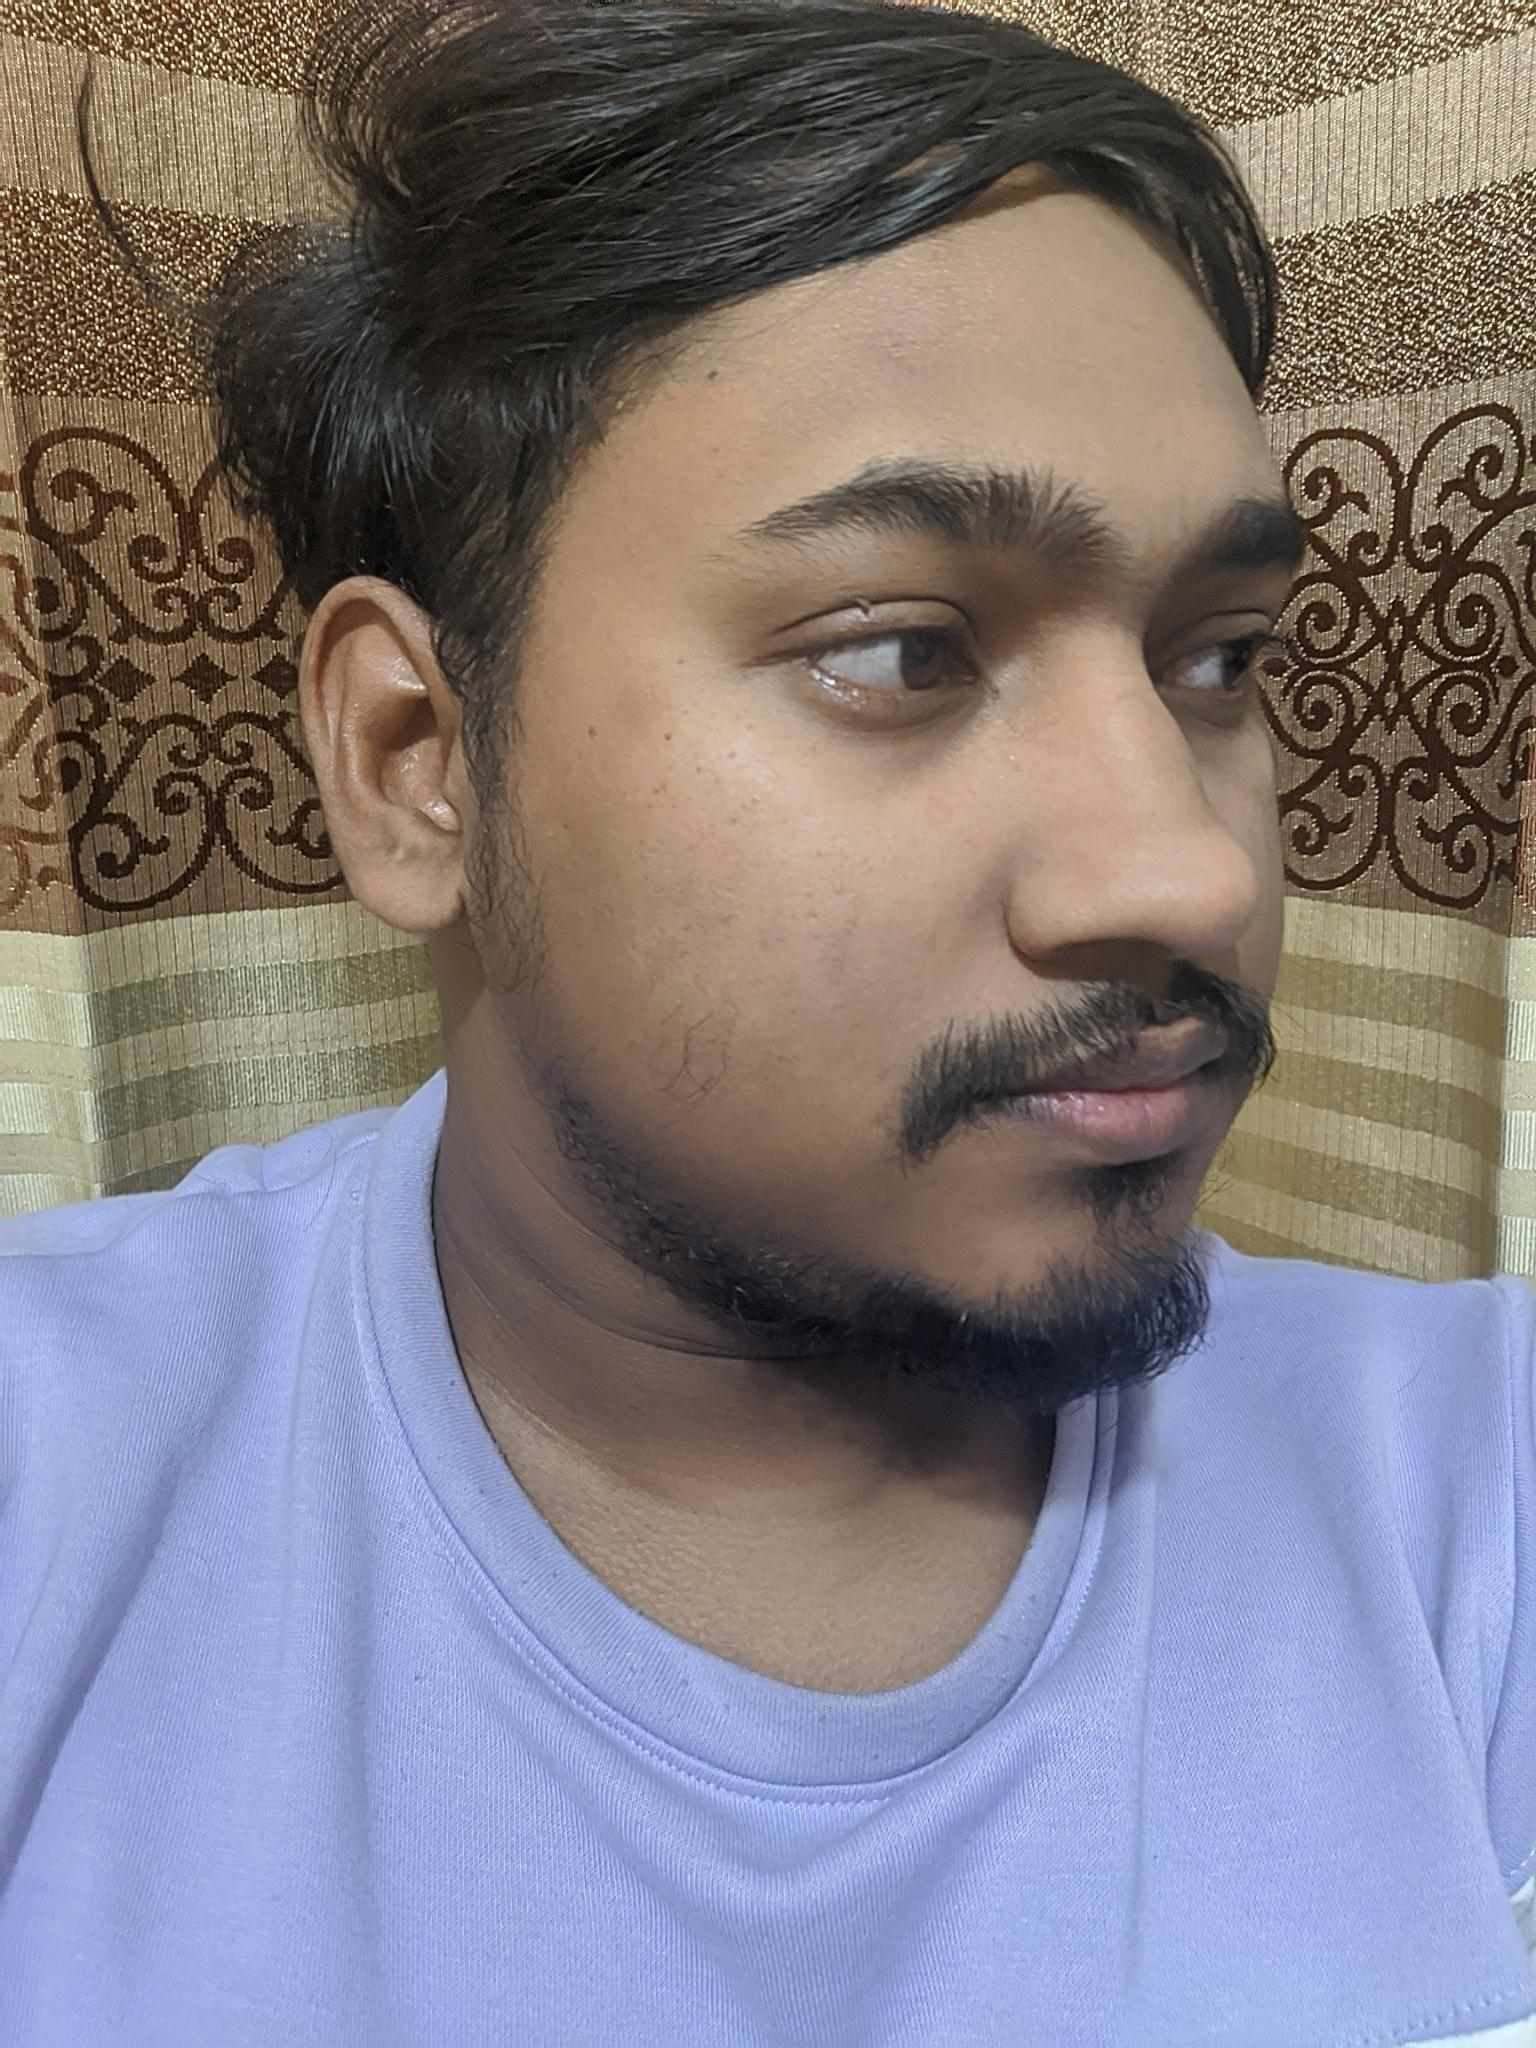Neutral: (681, 387, 1439, 1379)
